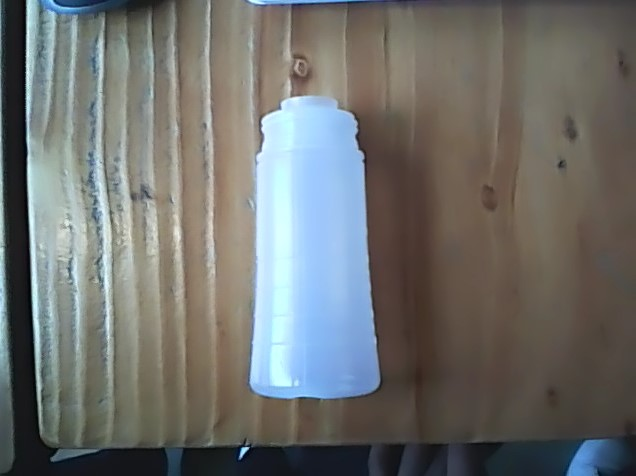Plastic: (241, 91, 386, 408)
